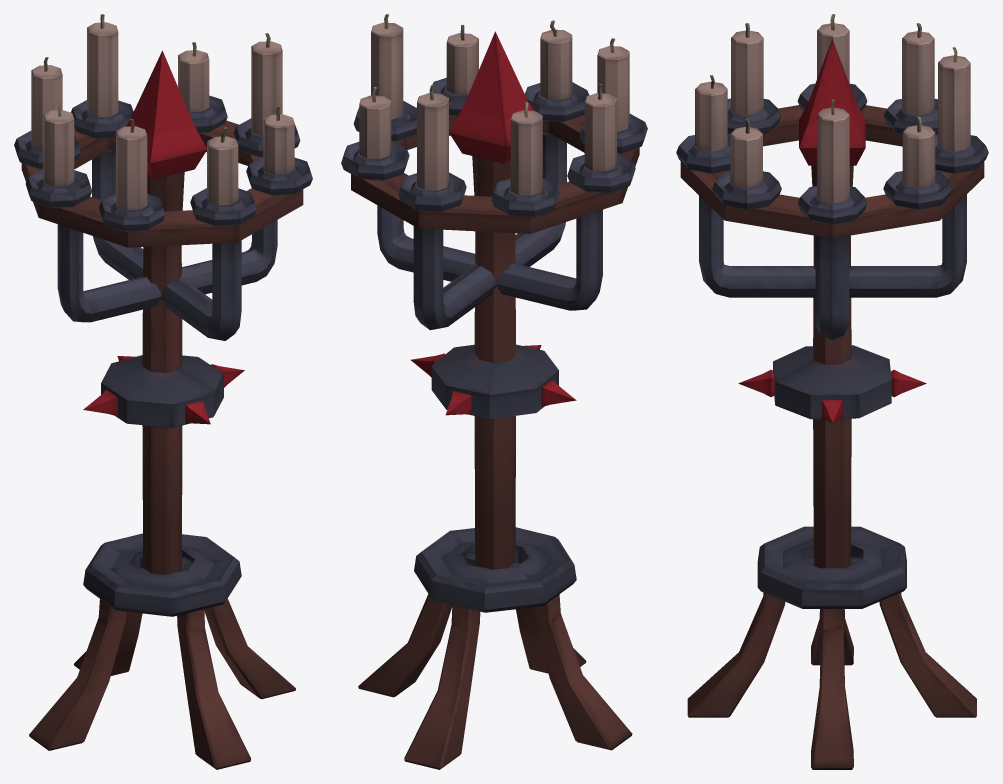
File: CandelabroAreaVermelha.fbx
The picture shows the model from 3 angles, left to right: view 1: azimuth 30°, elevation 25°; view 2: azimuth 150°, elevation 25°; view 3: azimuth 270°, elevation 25°; orthographic projection. The views are drawn at different scales.
Parts seen in each view (by area): view 1: Candelabro; view 2: Candelabro; view 3: Candelabro.
Boxes of the visible parts, box(x1,y1,x2,y2) form: Candelabro: box(14, 14, 312, 769); Candelabro: box(341, 14, 647, 769); Candelabro: box(676, 14, 988, 769).
Bounding box in the file's own units: 54.35 × 129 × 54.35.
